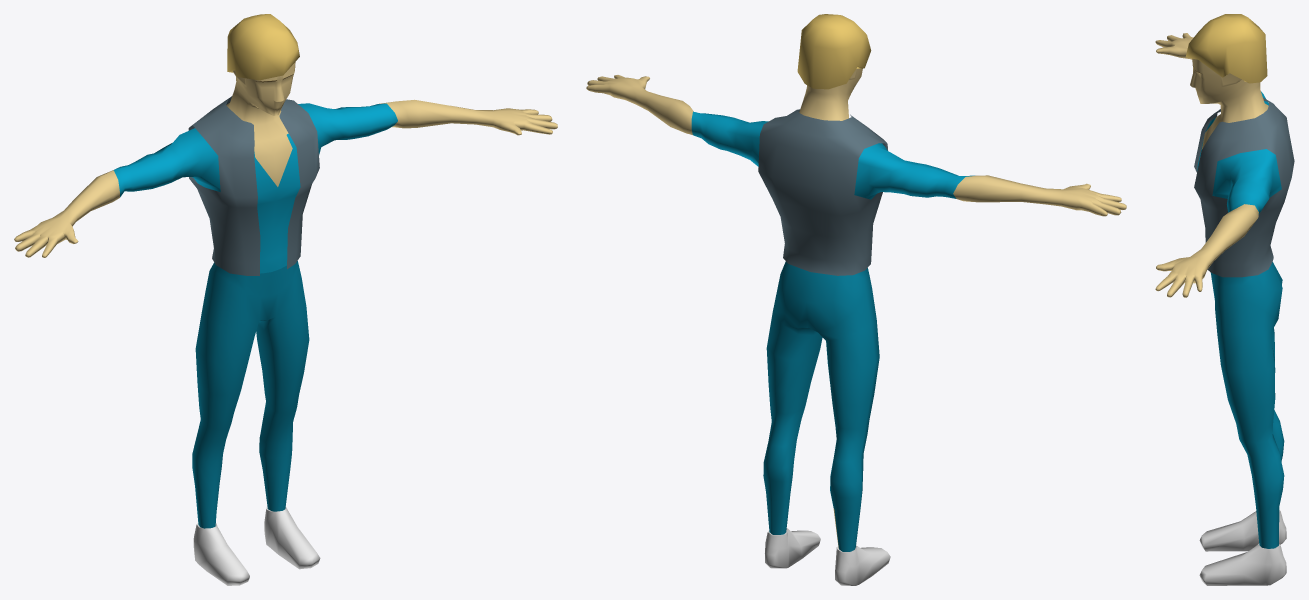
The model's file is Digori.fbx.
3 views of the same model, side by side, from view 1: azimuth 30°, elevation 25°; view 2: azimuth 150°, elevation 25°; view 3: azimuth 270°, elevation 25° (orthographic).
Parts seen in each view (by area): view 1: Digori; view 2: Digori; view 3: Digori.
Boxes of the visible parts, x1=… form: Digori: x1=14, y1=14, x2=557, y2=585; Digori: x1=586, y1=14, x2=1126, y2=585; Digori: x1=1155, y1=14, x2=1294, y2=585.
Bounding box in the file's own units: 190 × 185 × 42.7.
